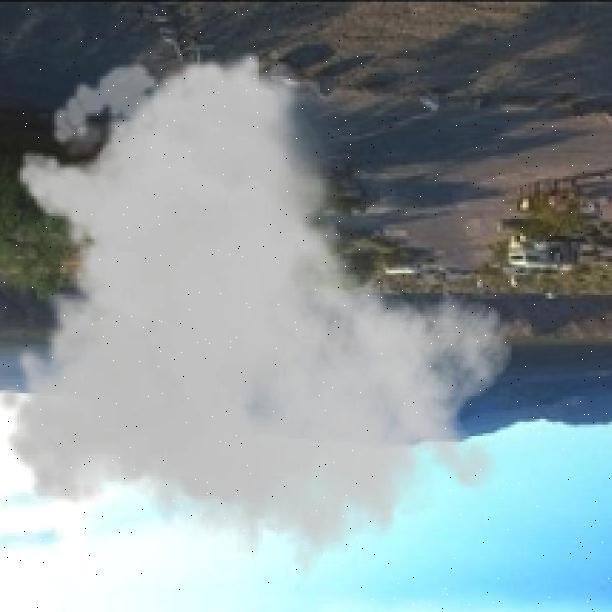smoke: (0, 47, 514, 599)
